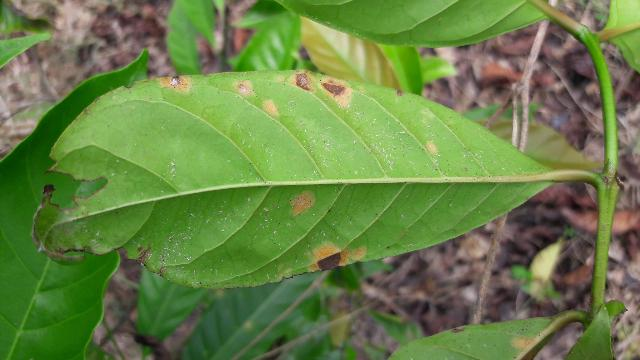rust_level_3: (37, 66, 548, 283)
